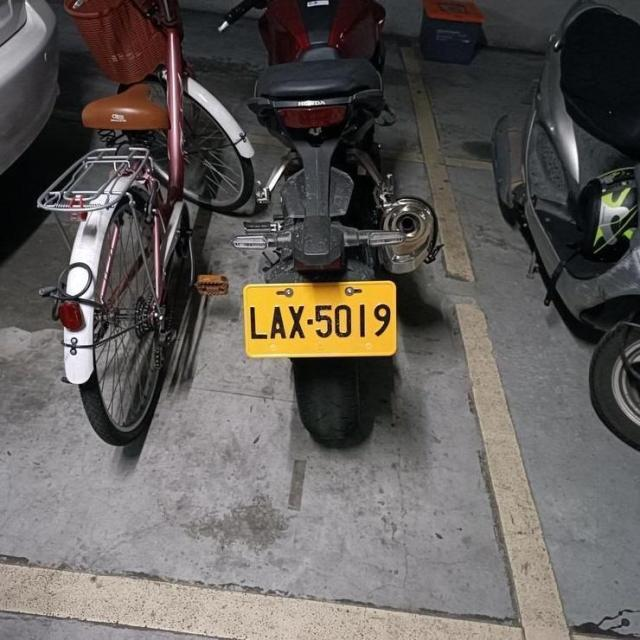Y: (240, 276, 401, 362)
